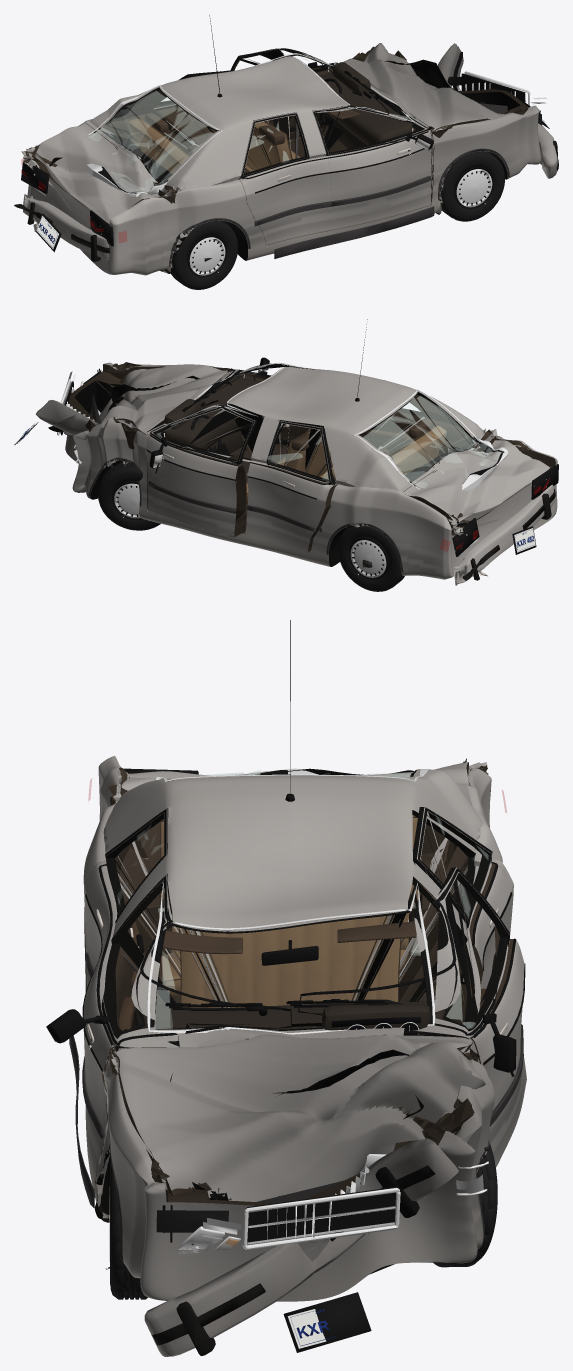
File: sedan87_front_corner_d2_lod1.glb
The picture shows the model from 3 angles, top to bottom: view 1: azimuth 30°, elevation 25°; view 2: azimuth 150°, elevation 25°; view 3: azimuth 270°, elevation 25°; orthographic projection. The views are drawn at different scales.
Parts seen in each view (by area): view 1: Body, Interior, Door_FR, Glass, Trunk, Door_RR, Hood, Wheel_FR_mesh, Wheel_RR_mesh, Trim, Ends, Bumper_R (+5 smaller); view 2: Body, Door_FL, Glass, Interior, Trunk, Door_RL, Hood, Wheel_RL_mesh, Bumper_R, Wheel_FL_mesh, Ends, Trim_FL (+7 smaller); view 3: Body, Hood, Interior, Ends, Bumper_F, Door_FL, Door_FR, Glass, Door_RL, Trim_FR, Trim_FL, Trim (+6 smaller).
Part boxes in pixels (box(x1,y1,x2,y2)): Body: box(21, 46, 541, 275); Interior: box(128, 62, 415, 173); Door_FR: box(312, 106, 432, 229); Glass: box(86, 53, 414, 197); Trunk: box(31, 123, 165, 223); Door_RR: box(238, 112, 333, 245); Hood: box(340, 43, 504, 131); Wheel_FR_mesh: box(441, 151, 504, 221); Wheel_RR_mesh: box(171, 220, 237, 289); Trim: box(169, 15, 509, 267); Ends: box(21, 71, 549, 252); Bumper_R: box(14, 194, 109, 261); Body: box(65, 362, 557, 579); Door_FL: box(145, 407, 257, 537); Glass: box(164, 362, 508, 490); Interior: box(164, 377, 446, 503); Trunk: box(403, 436, 549, 525); Door_RL: box(245, 420, 335, 552); Hood: box(99, 364, 230, 434); Wheel_RL_mesh: box(338, 526, 404, 591); Bumper_R: box(453, 484, 555, 585); Wheel_FL_mesh: box(98, 462, 160, 530); Ends: box(14, 368, 558, 556); Trim_FL: box(147, 400, 254, 520); Body: box(83, 756, 502, 1301); Hood: box(111, 1034, 485, 1201); Interior: box(133, 815, 446, 1034); Ends: box(123, 768, 490, 1352); Bumper_F: box(144, 1138, 458, 1356); Door_FL: box(405, 867, 526, 1167); Door_FR: box(83, 874, 179, 1181); Glass: box(147, 768, 435, 1034); Door_RL: box(413, 807, 513, 1024); Trim_FR: box(46, 875, 291, 1138); Trim_FL: box(298, 868, 525, 1126); Trim: box(69, 620, 489, 1261).
Size of the model in its own units: 4.92 by 2.14 by 2.03.
Materials: 33 (5 with a texture image).
